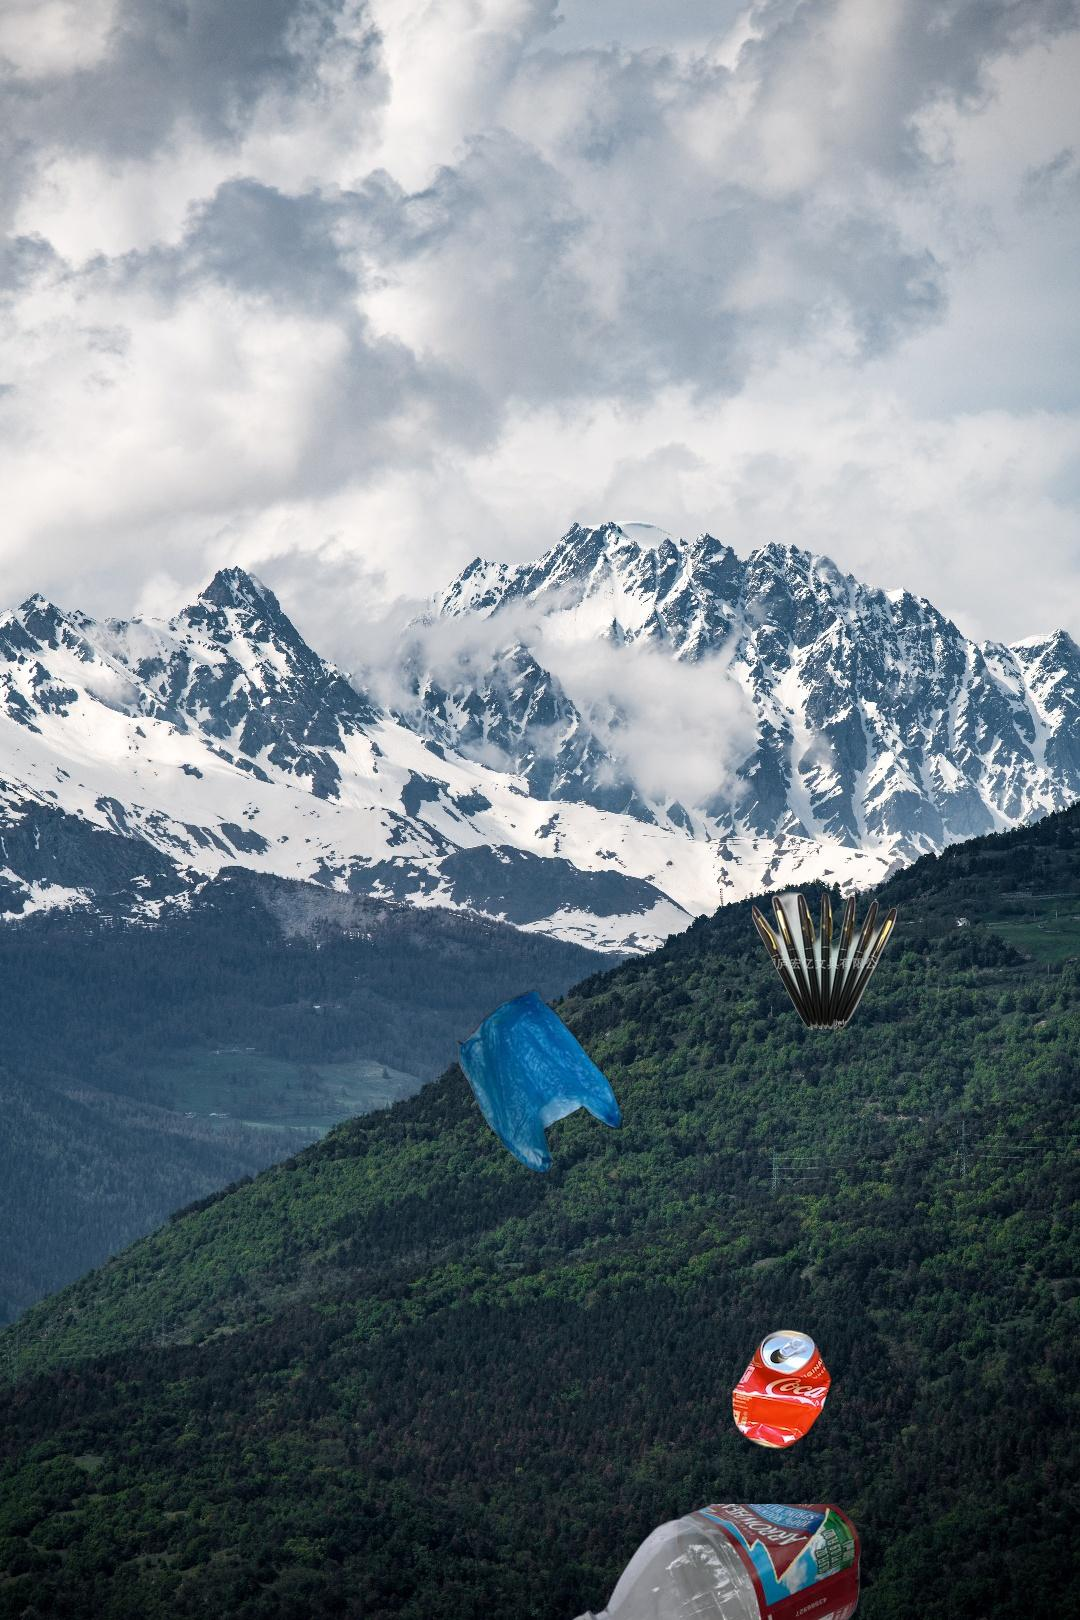metal-cans: (728, 1323, 837, 1456)
penholder: (752, 892, 900, 1031)
plastic-bag: (454, 988, 627, 1176)
plastic-bottles: (559, 1504, 865, 1620)
